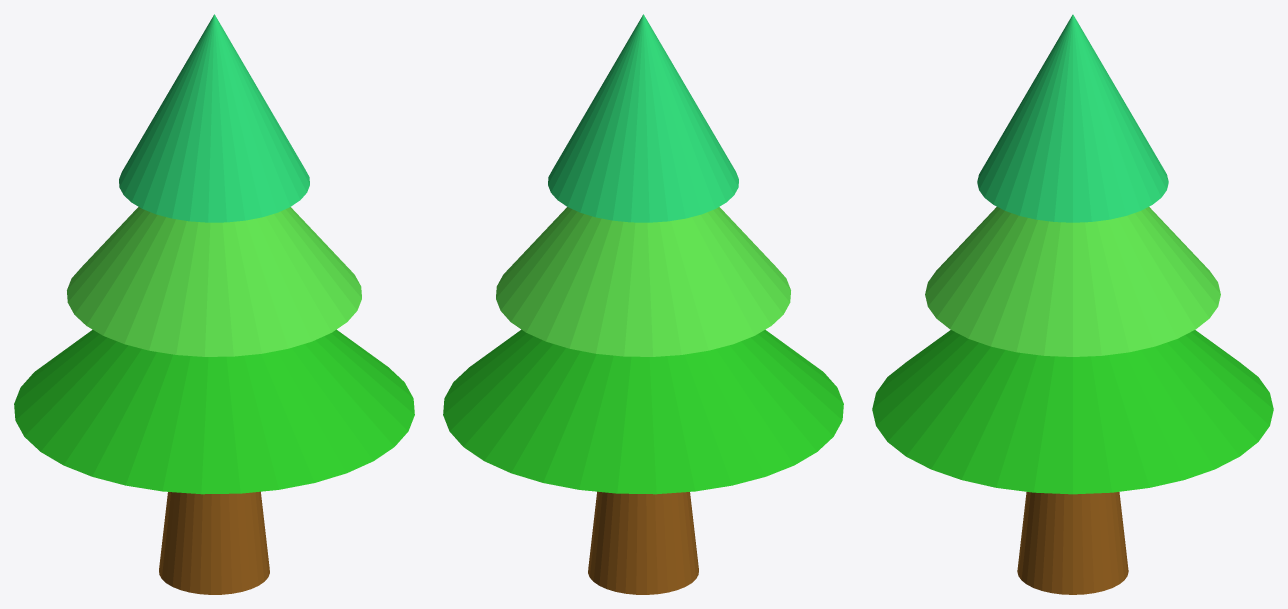
File: tree.fbx
The picture shows the model from 3 angles, left to right: view 1: azimuth 30°, elevation 25°; view 2: azimuth 150°, elevation 25°; view 3: azimuth 270°, elevation 25°; orthographic projection.
Visible parts, largest first — view 1: tree_leaves1, tree_leaves2, tree_leaves3, tree_trunk; view 2: tree_leaves1, tree_leaves2, tree_leaves3, tree_trunk; view 3: tree_leaves1, tree_leaves2, tree_leaves3, tree_trunk.
Boxes of the visible parts, x1,y1,x2,y2 form: tree_leaves1: (14, 329, 414, 494); tree_leaves2: (67, 207, 361, 356); tree_leaves3: (119, 14, 309, 222); tree_trunk: (159, 491, 269, 594); tree_leaves1: (443, 329, 843, 494); tree_leaves2: (496, 207, 790, 356); tree_leaves3: (548, 14, 738, 222); tree_trunk: (588, 491, 698, 594); tree_leaves1: (872, 330, 1273, 494); tree_leaves2: (925, 207, 1220, 356); tree_leaves3: (977, 14, 1168, 222); tree_trunk: (1017, 492, 1128, 594).
Bounding box in the file's own units: 433 × 663 × 433.
